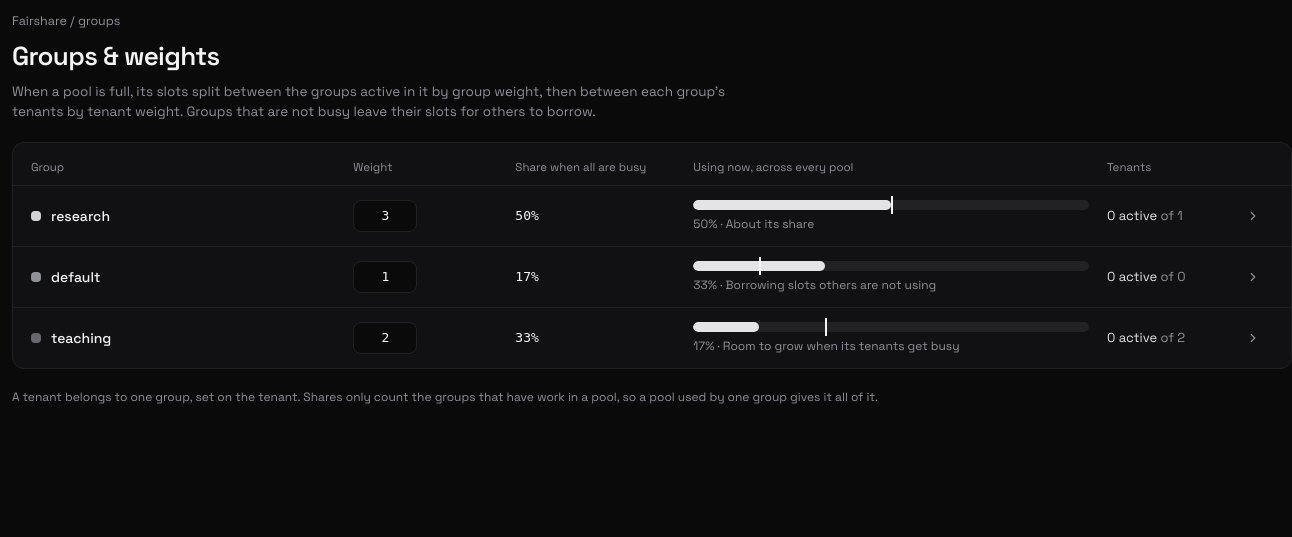
FairshareGroups › lists a group's tenants when it is opened
Click the button named "Show teaching tenants".
click(1253, 338)  # box [1237, 322, 1269, 354]
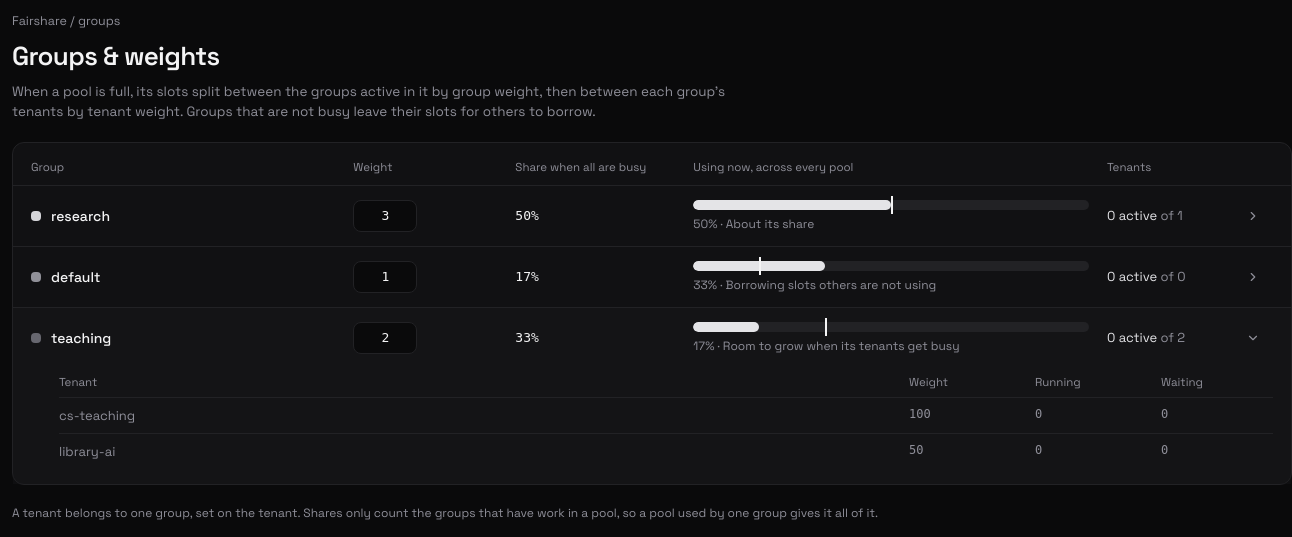
Check: the text "cs-teaching" is shown, box [59, 407, 135, 424]
Check: the text "library-ai" is shown, box [59, 443, 115, 460]
